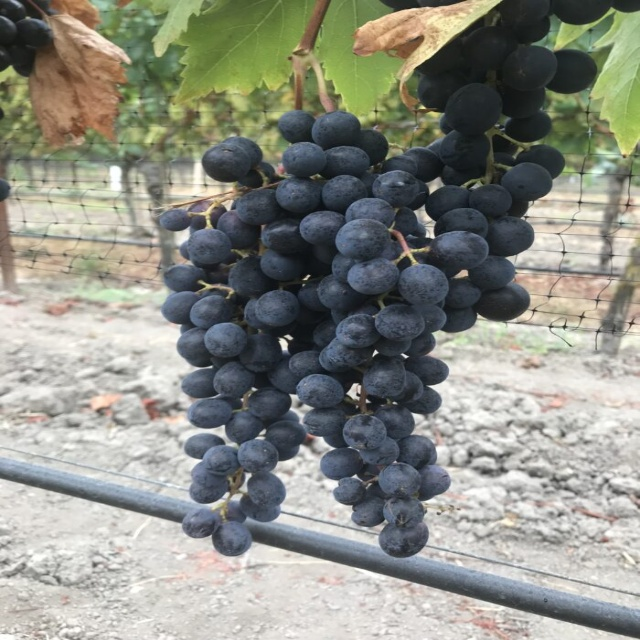grape: (154, 92, 463, 565)
